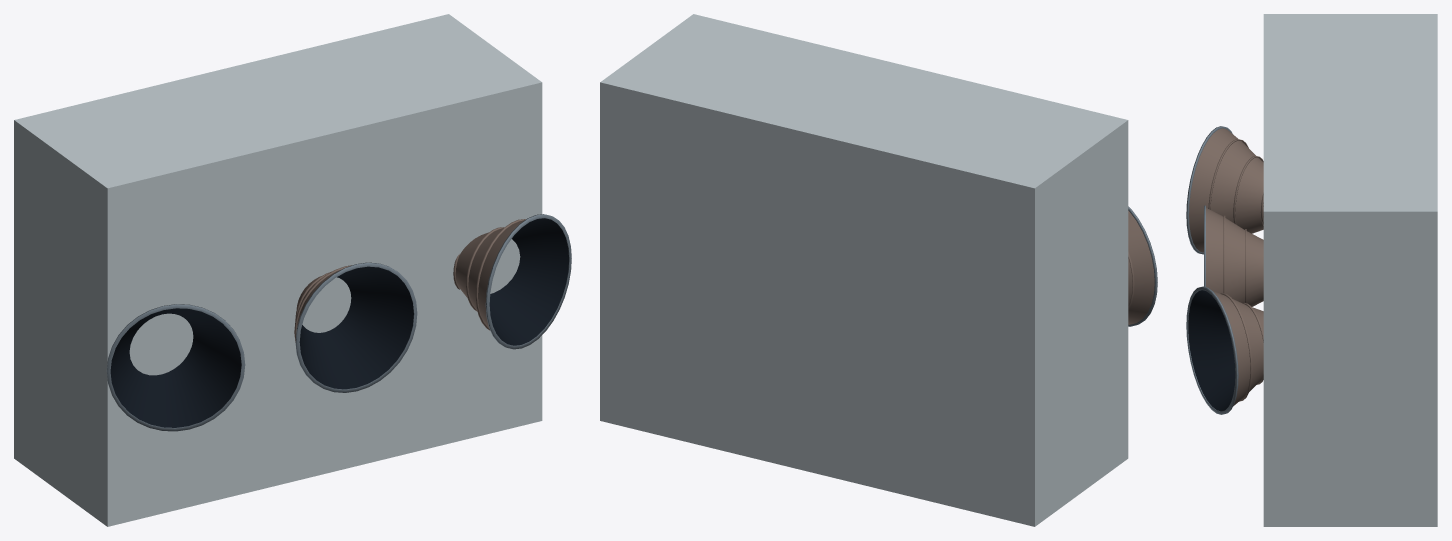
File: orion_esm.rcs_cluster_03.glb
3 views of the same model, side by side, from view 1: azimuth 30°, elevation 25°; view 2: azimuth 150°, elevation 25°; view 3: azimuth 270°, elevation 25° (orthographic). The views are drawn at different scales.
Visible parts, largest first — view 1: orion_esm.rcs_cluster_03.mesh_Satin_aluminum, orion_esm.rcs_cluster_03.nozzle_01.bell.mesh_Shadowed_interi, orion_esm.rcs_cluster_03.nozzle_02.bell.mesh_Shadowed_interi, orion_esm.rcs_cluster_03.nozzle_03.bell.mesh_Shadowed_interi, orion_esm.rcs_cluster_03.nozzle_03.bell.mesh_Heat-stained_al, orion_esm.rcs_cluster_03.nozzle_01.bell.mesh_Machined_steel, orion_esm.rcs_cluster_03.nozzle_02.bell.mesh_Machined_steel, orion_esm.rcs_cluster_03.nozzle_03.bell.mesh_Machined_steel; view 2: orion_esm.rcs_cluster_03.mesh_Satin_aluminum, orion_esm.rcs_cluster_03.nozzle_01.bell.mesh_Heat-stained_al; view 3: orion_esm.rcs_cluster_03.mesh_Satin_aluminum, orion_esm.rcs_cluster_03.nozzle_01.bell.mesh_Heat-stained_al, orion_esm.rcs_cluster_03.nozzle_02.bell.mesh_Heat-stained_al, orion_esm.rcs_cluster_03.nozzle_03.bell.mesh_Shadowed_interi, orion_esm.rcs_cluster_03.nozzle_03.bell.mesh_Heat-stained_al, orion_esm.rcs_cluster_03.nozzle_03.bell.mesh_Machined_steel, orion_esm.rcs_cluster_03.nozzle_01.bell.mesh_Machined_steel.
Part boxes in pixels (x1,y1,x2,y2): orion_esm.rcs_cluster_03.mesh_Satin_aluminum: (14, 14, 542, 526); orion_esm.rcs_cluster_03.nozzle_01.bell.mesh_Shadowed_interi: (110, 308, 241, 427); orion_esm.rcs_cluster_03.nozzle_02.bell.mesh_Shadowed_interi: (299, 266, 413, 389); orion_esm.rcs_cluster_03.nozzle_03.bell.mesh_Shadowed_interi: (489, 218, 568, 345); orion_esm.rcs_cluster_03.nozzle_03.bell.mesh_Heat-stained_al: (453, 219, 525, 330); orion_esm.rcs_cluster_03.nozzle_01.bell.mesh_Machined_steel: (106, 304, 245, 431); orion_esm.rcs_cluster_03.nozzle_02.bell.mesh_Machined_steel: (295, 262, 417, 392); orion_esm.rcs_cluster_03.nozzle_03.bell.mesh_Machined_steel: (485, 214, 571, 349); orion_esm.rcs_cluster_03.mesh_Satin_aluminum: (600, 14, 1128, 526); orion_esm.rcs_cluster_03.nozzle_01.bell.mesh_Heat-stained_al: (1128, 211, 1154, 324); orion_esm.rcs_cluster_03.mesh_Satin_aluminum: (1263, 14, 1437, 526); orion_esm.rcs_cluster_03.nozzle_01.bell.mesh_Heat-stained_al: (1189, 128, 1263, 252); orion_esm.rcs_cluster_03.nozzle_02.bell.mesh_Heat-stained_al: (1206, 207, 1263, 306); orion_esm.rcs_cluster_03.nozzle_03.bell.mesh_Shadowed_interi: (1188, 290, 1235, 411); orion_esm.rcs_cluster_03.nozzle_03.bell.mesh_Heat-stained_al: (1213, 291, 1263, 406); orion_esm.rcs_cluster_03.nozzle_03.bell.mesh_Machined_steel: (1186, 286, 1238, 414); orion_esm.rcs_cluster_03.nozzle_01.bell.mesh_Machined_steel: (1186, 126, 1232, 254).
Size of the model in its own units: 0.4598 by 0.32 by 0.2311.
